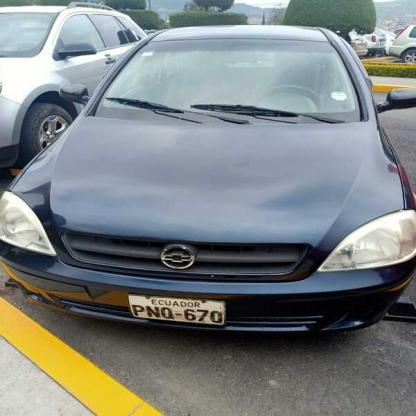Placa: (126, 292, 232, 336)
